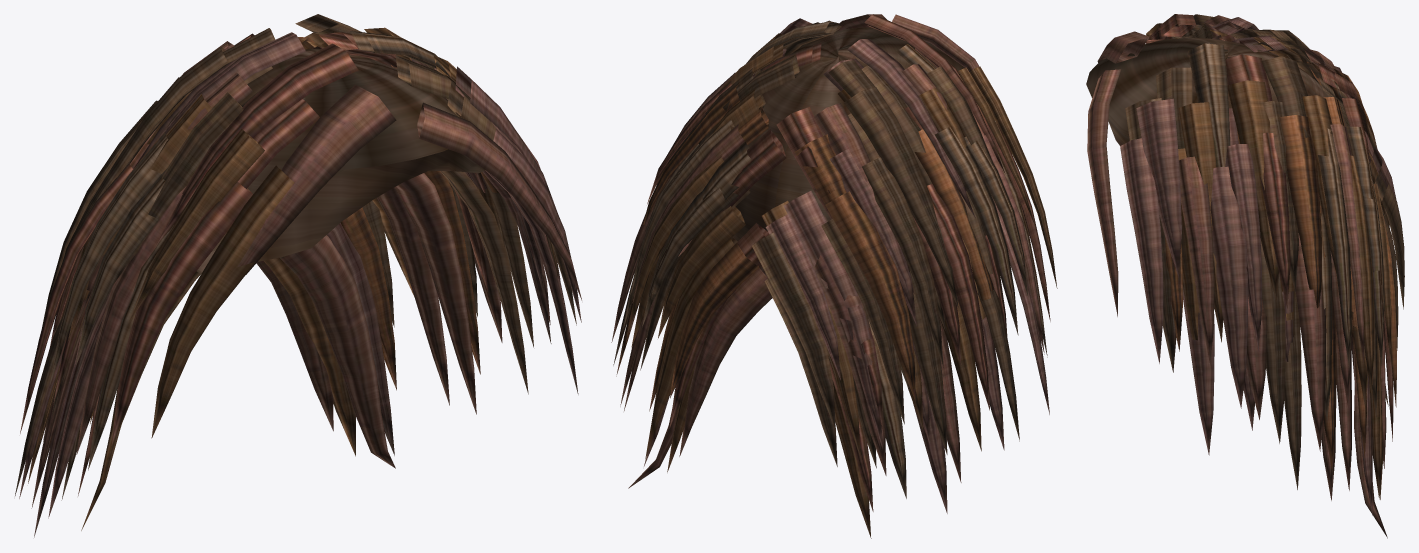
Rendered from medio.glb.
3 views of the same model, side by side, from view 1: azimuth 30°, elevation 25°; view 2: azimuth 150°, elevation 25°; view 3: azimuth 270°, elevation 25° (orthographic). The views are drawn at different scales.
Visible parts, largest first — view 1: cabelo_medio; view 2: cabelo_medio; view 3: cabelo_medio.
Part boxes in pixels (x1=…): cabelo_medio: x1=15, y1=14, x2=581, y2=537; cabelo_medio: x1=611, y1=14, x2=1057, y2=538; cabelo_medio: x1=1086, y1=14, x2=1404, y2=538.
Bounding box in the file's own units: 0.2953 × 0.3031 × 0.1973.
Materials: 1 (1 with a texture image).
